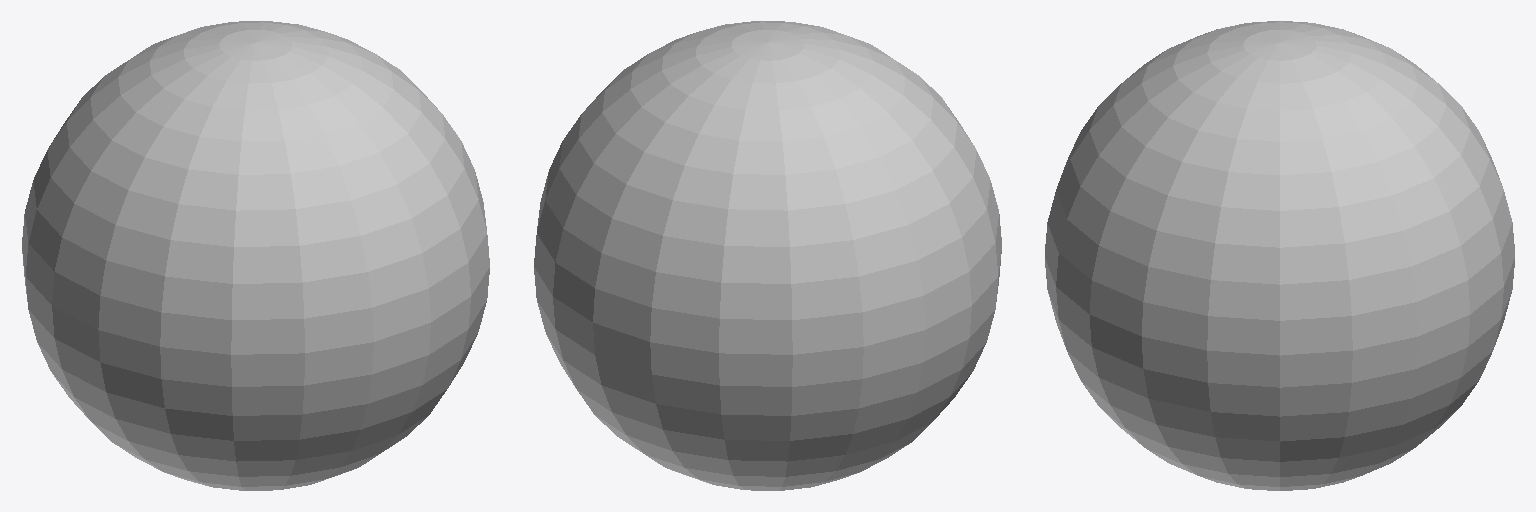
File: colorsphere.obj
3 renders of one model, left to right at view 1: azimuth 30°, elevation 25°; view 2: azimuth 150°, elevation 25°; view 3: azimuth 270°, elevation 25°, orthographic.
Visible parts, largest first — view 1: pSphere1; view 2: pSphere1; view 3: pSphere1.
Part boxes in pixels (x1,y1,x2,y2): pSphere1: (22, 21, 489, 490); pSphere1: (534, 21, 1001, 490); pSphere1: (1045, 21, 1514, 490).
Bounding box in the file's own units: 2 × 2 × 2.